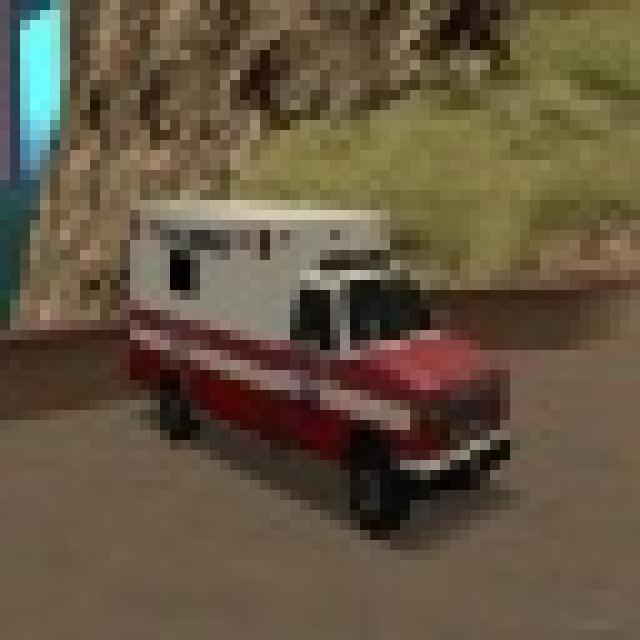Ambulance: (120, 190, 510, 530)
